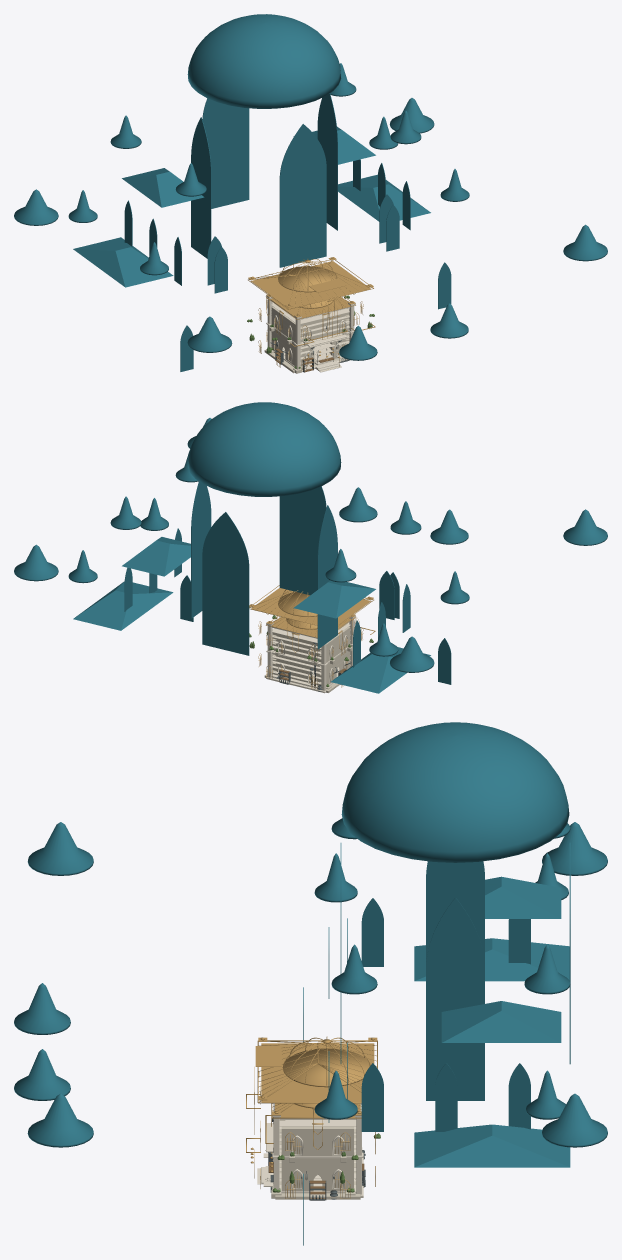
File: Catalog-15.glb
3 renders of one model, top to bottom at view 1: azimuth 30°, elevation 25°; view 2: azimuth 150°, elevation 25°; view 3: azimuth 270°, elevation 25°, orthographic. The views are drawn at different scales.
Visible parts, largest first — view 1: Teal Enamel Roof, Aged Gold (×2), Pale Carved Stone, Ivory Limestone; view 2: Teal Enamel Roof, Aged Gold (×2), Pale Carved Stone, Ivory Limestone; view 3: Teal Enamel Roof, Aged Gold (×2), Ivory Limestone (×2), Pale Carved Stone.
Part boxes in pixels (bbox=[...]): Teal Enamel Roof: bbox=[14, 14, 607, 371]; Aged Gold (×2): bbox=[248, 257, 375, 370]; Pale Carved Stone: bbox=[266, 295, 355, 372]; Ivory Limestone: bbox=[264, 307, 349, 373]; Teal Enamel Roof: bbox=[14, 402, 607, 693]; Aged Gold (×2): bbox=[249, 585, 375, 689]; Pale Carved Stone: bbox=[266, 615, 355, 693]; Ivory Limestone: bbox=[264, 627, 352, 692]; Teal Enamel Roof: bbox=[14, 722, 607, 1245]; Aged Gold (×2): bbox=[246, 1036, 377, 1198]; Ivory Limestone (×2): bbox=[271, 1120, 362, 1199]; Pale Carved Stone: bbox=[257, 1103, 363, 1197].
Bounding box in the file's own units: 77.2 × 53 × 64.7.
